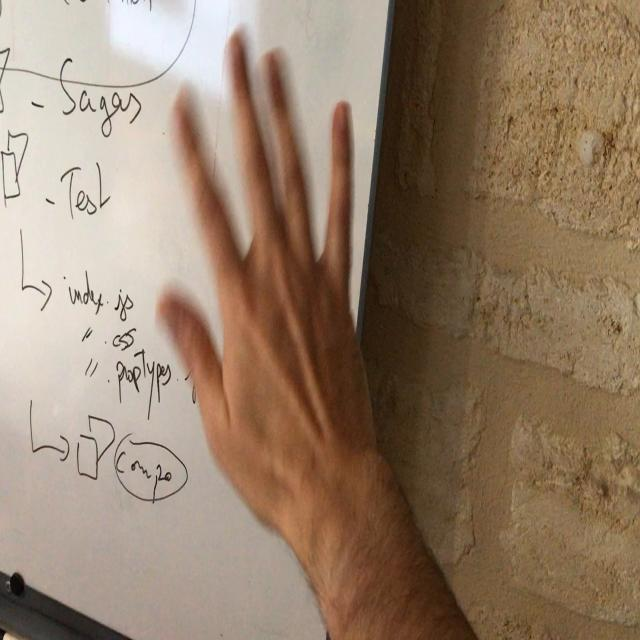hand: (157, 27, 373, 512)
